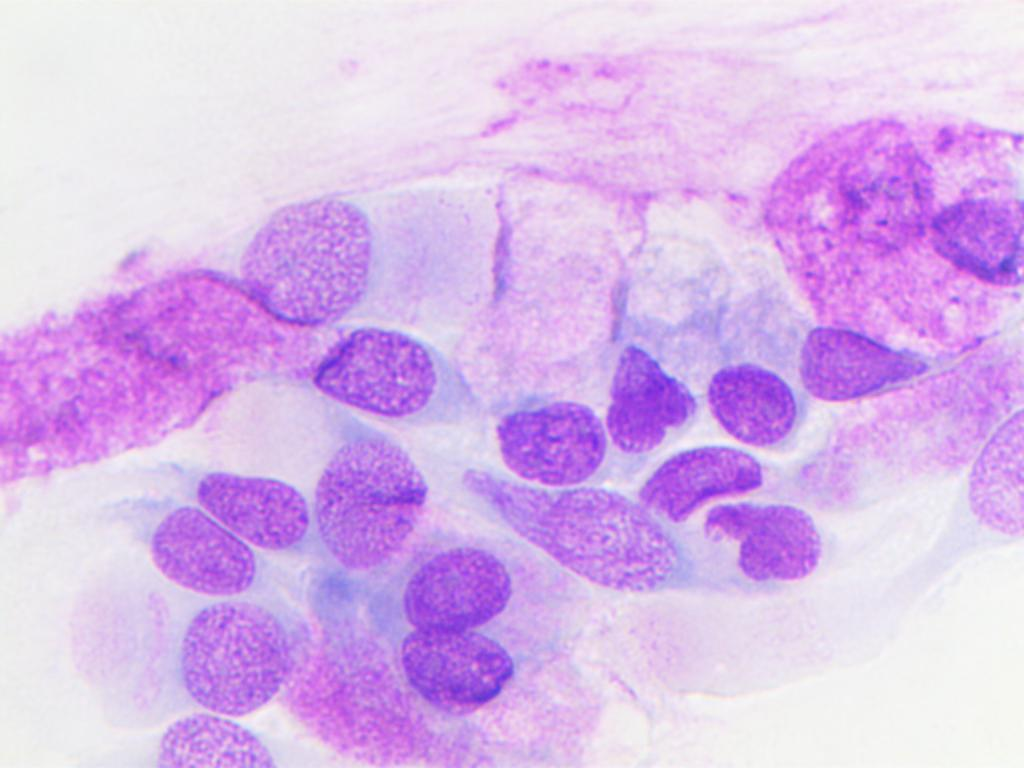epithelial: (468, 472, 682, 598), (311, 415, 428, 570), (178, 597, 308, 716), (914, 171, 1024, 301), (603, 329, 703, 459), (703, 495, 832, 591), (477, 390, 606, 485), (143, 500, 263, 597), (696, 339, 797, 449), (403, 539, 514, 631), (134, 706, 295, 768), (963, 387, 1024, 545), (195, 471, 311, 549)
goblet_cell: (795, 205, 1001, 403), (213, 327, 439, 421), (230, 189, 369, 324), (401, 626, 592, 715), (640, 446, 832, 524)
